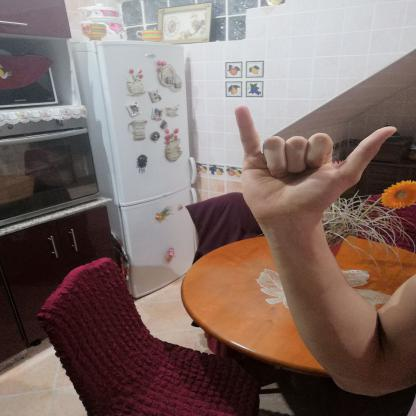YA: (219, 95, 406, 228)
